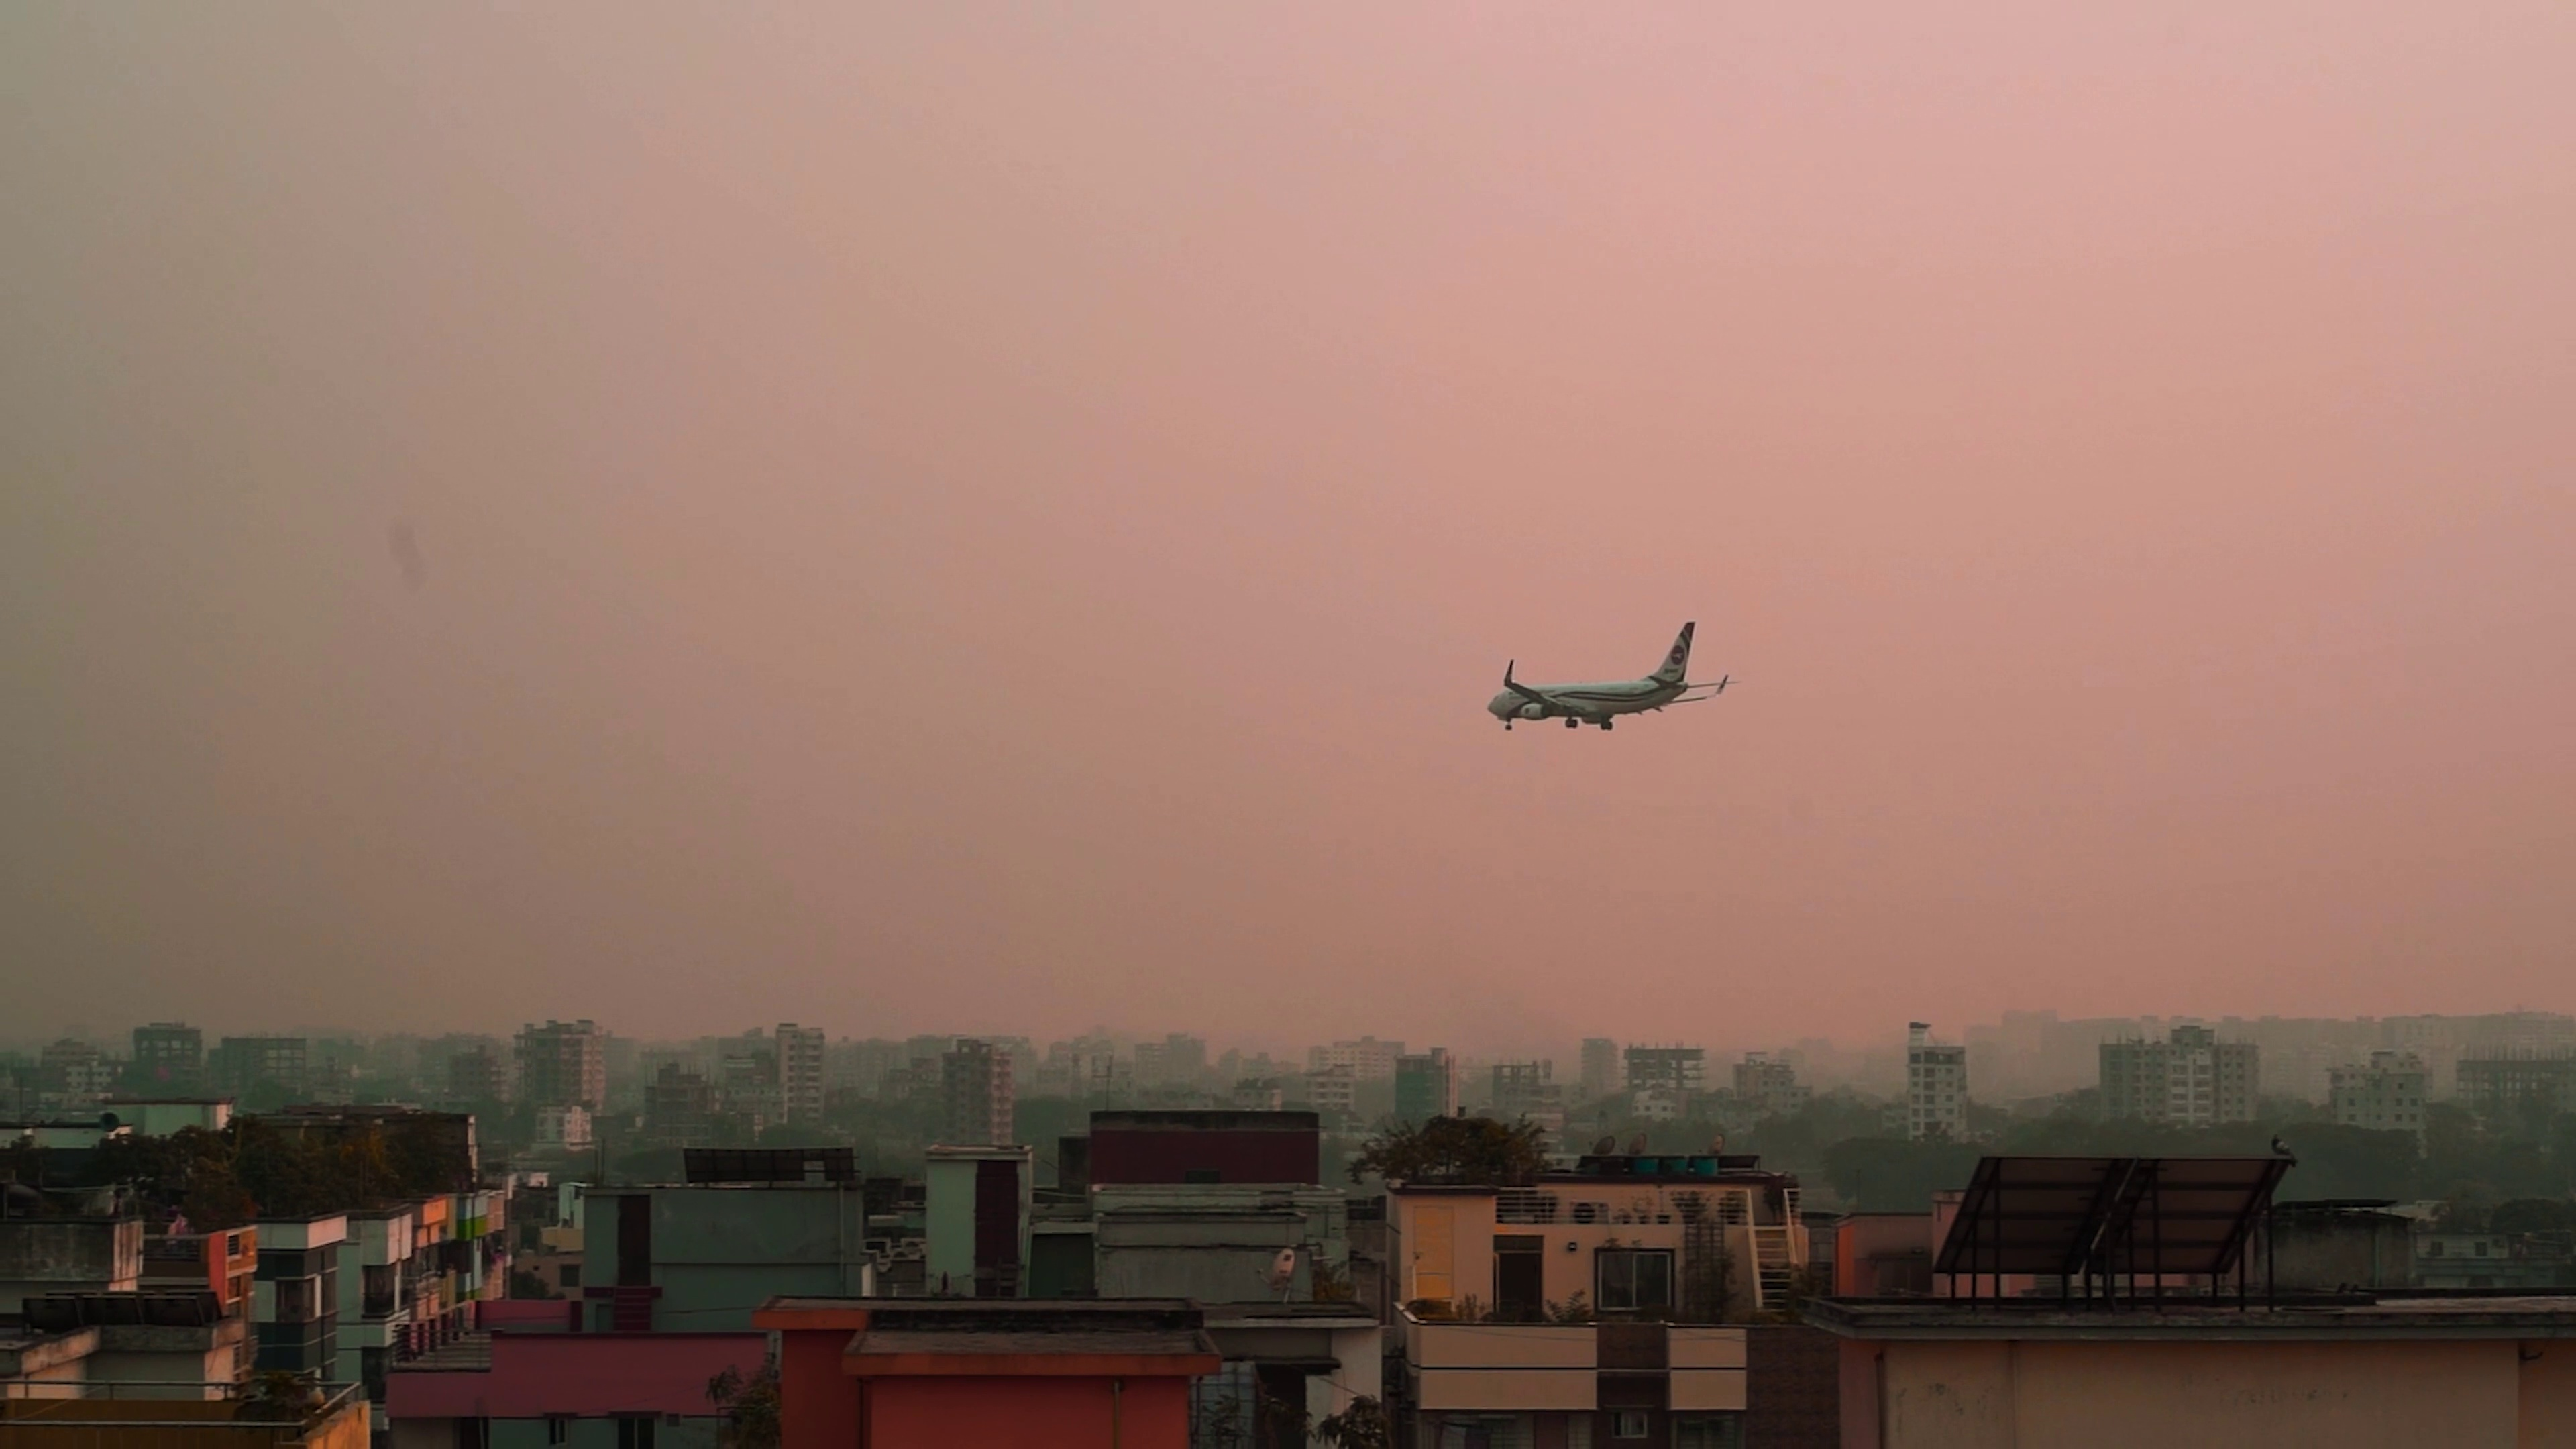plane: (1486, 621, 1741, 729)
